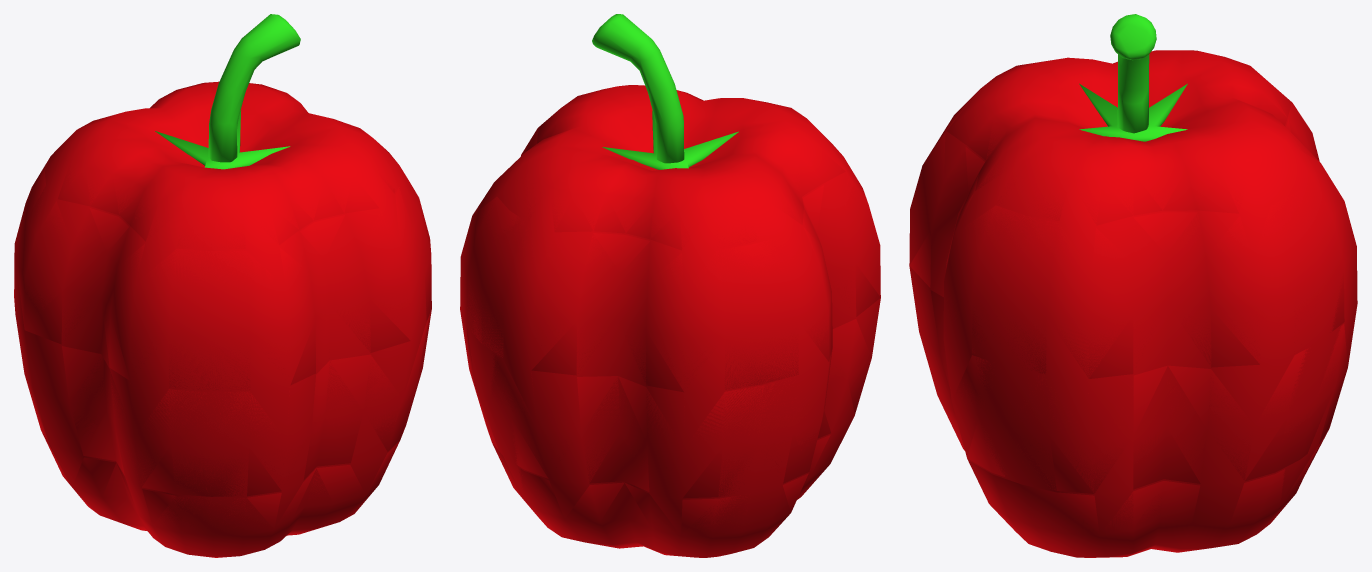
File: pepper.fbx
3 renders of one model, left to right at view 1: azimuth 30°, elevation 25°; view 2: azimuth 150°, elevation 25°; view 3: azimuth 270°, elevation 25°, orthographic. The views are drawn at different scales.
Parts seen in each view (by area): view 1: pepper, Sphere.003, Sphere.002, Sphere.001, Sphere.004; view 2: pepper, Sphere.003, Sphere.002, Sphere.001, Sphere.004; view 3: pepper, Sphere.003, Sphere.002, Sphere.001, Sphere.004.
Boxes of the visible parts, x1,y1,x2,y2 form: pepper: [14, 14, 431, 557]; Sphere.003: [25, 316, 429, 496]; Sphere.002: [14, 158, 431, 390]; Sphere.001: [58, 110, 395, 248]; Sphere.004: [42, 433, 399, 535]; pepper: [460, 14, 880, 557]; Sphere.003: [467, 319, 871, 498]; Sphere.002: [464, 129, 880, 392]; Sphere.001: [503, 108, 845, 250]; Sphere.004: [493, 435, 830, 535]; pepper: [909, 14, 1357, 557]; Sphere.003: [919, 290, 1357, 493]; Sphere.002: [909, 108, 1356, 378]; Sphere.001: [947, 80, 1319, 225]; Sphere.004: [961, 432, 1327, 534].
Bounding box in the file's own units: 59.8 × 77.77 × 59.8.
